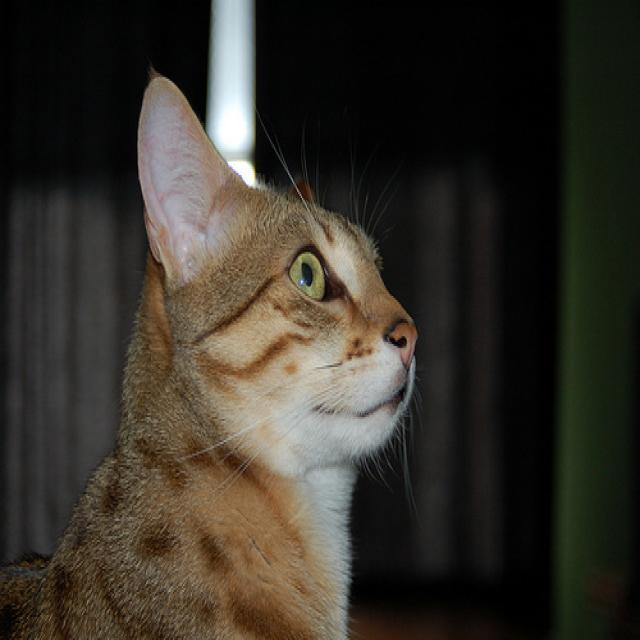Egyptian_Mau: (136, 73, 416, 459)
